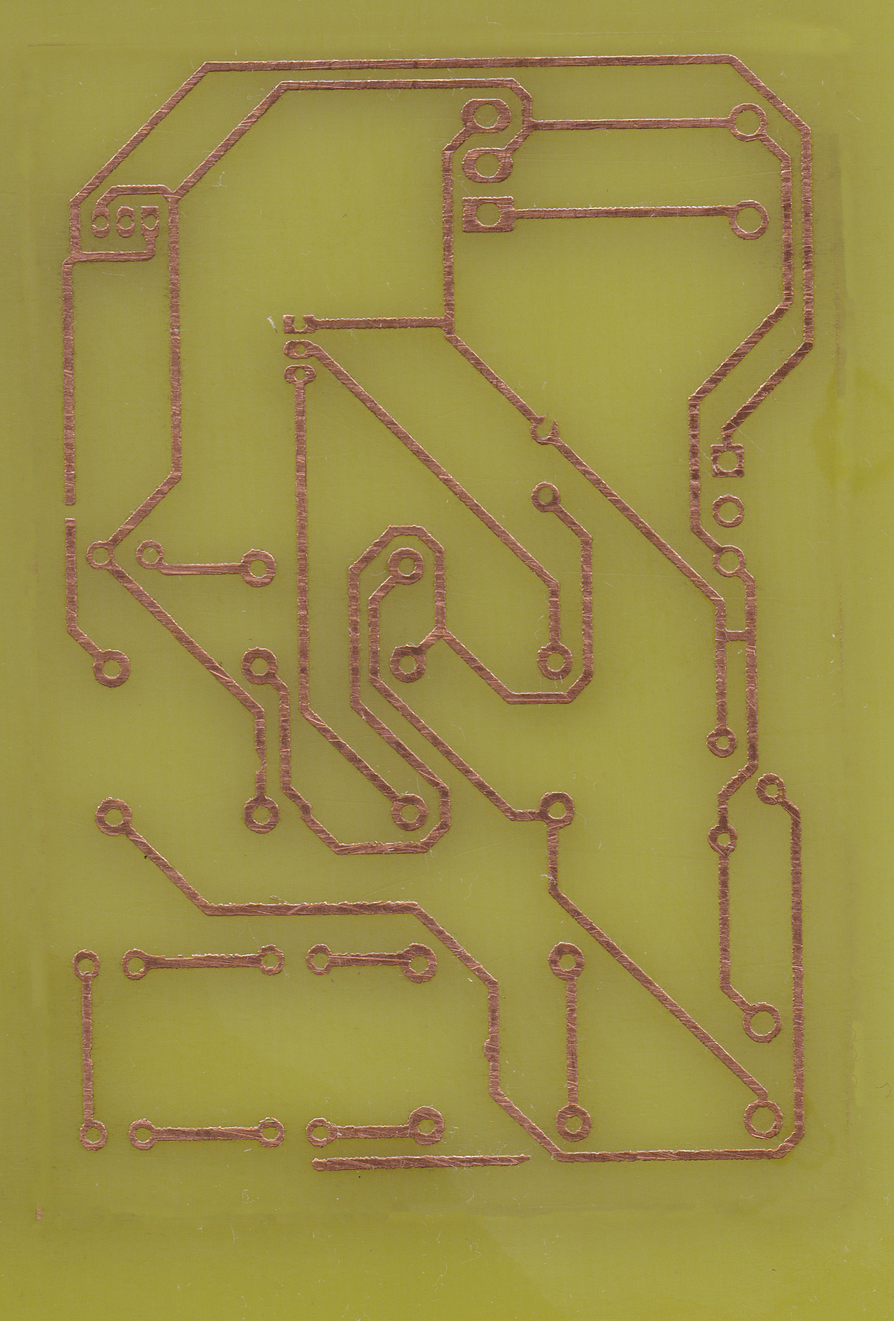missing_hole: (523, 414, 564, 451), (280, 310, 321, 337)
mouse_bite: (251, 743, 271, 782)
open_circuit: (57, 494, 86, 533)
short: (714, 621, 761, 649)
spur: (478, 1032, 504, 1066)
spurious_copper: (308, 1149, 538, 1178)
